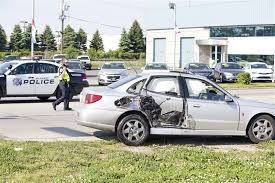Smashed: (118, 92, 194, 131)
